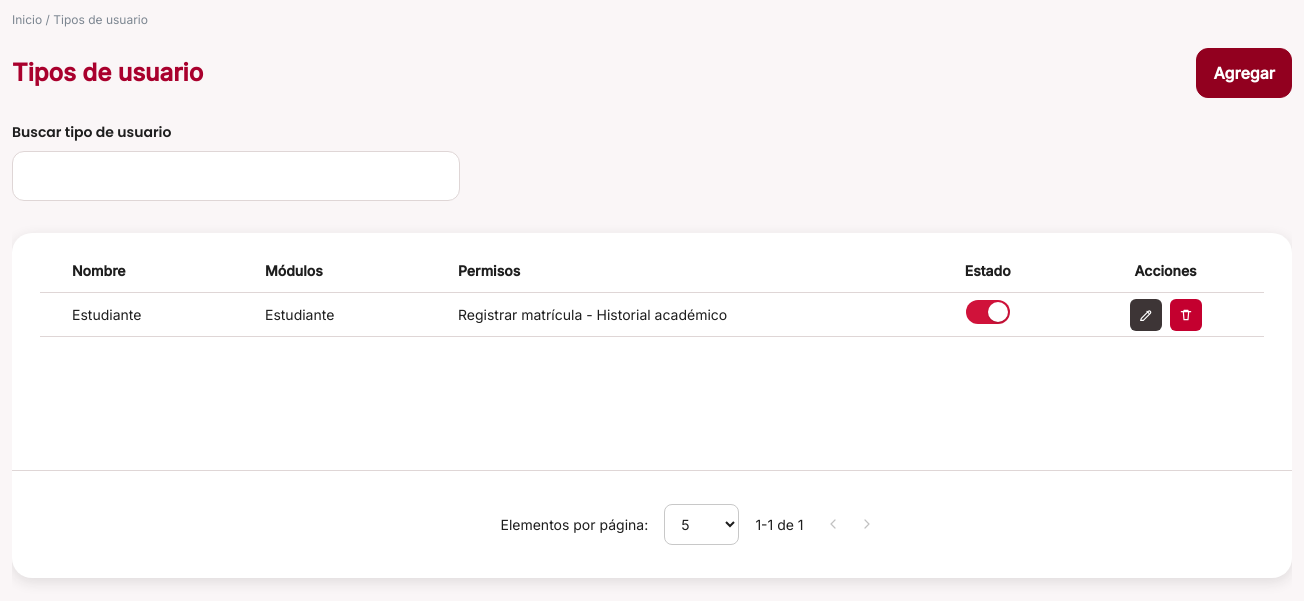
Scenario: AdminUserTypesComponent › returns to the list from the editor
Click the button "Agregar" at {"x": 1244, "y": 73}, box [1196,48,1292,98]
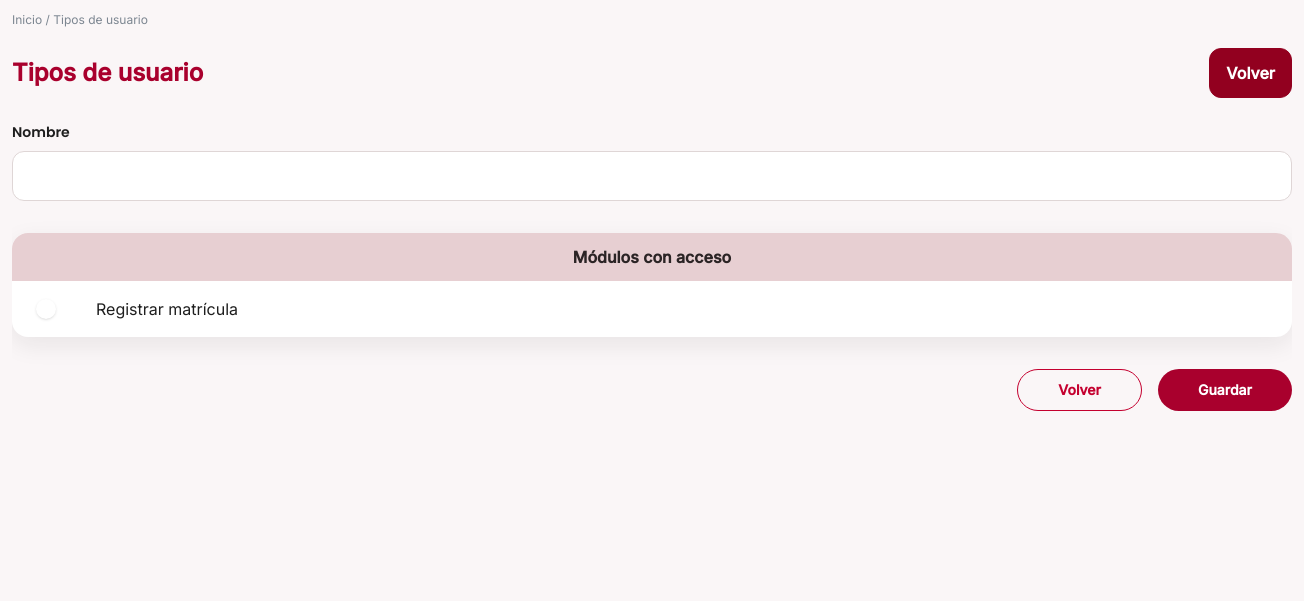
Click the 1st button "Volver" at {"x": 1251, "y": 73}, box [1209,48,1292,98]
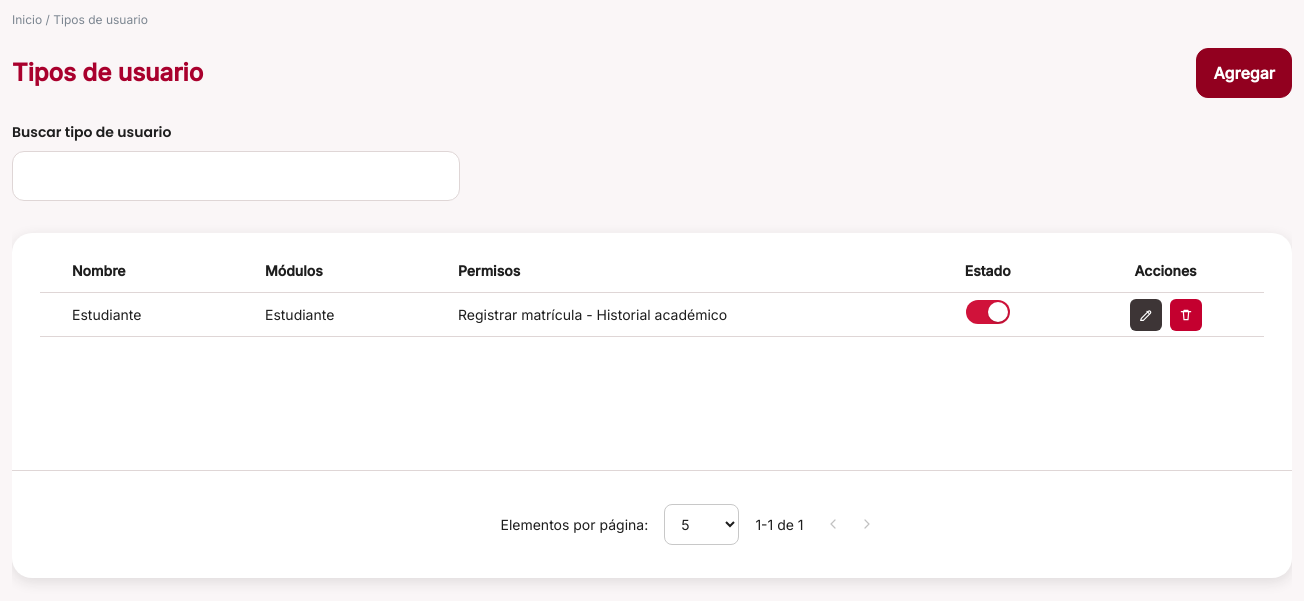
expect the text "Agregar" is shown: met, box [1196,48,1292,98]
expect the text "Módulos con acceso" is gone: met
